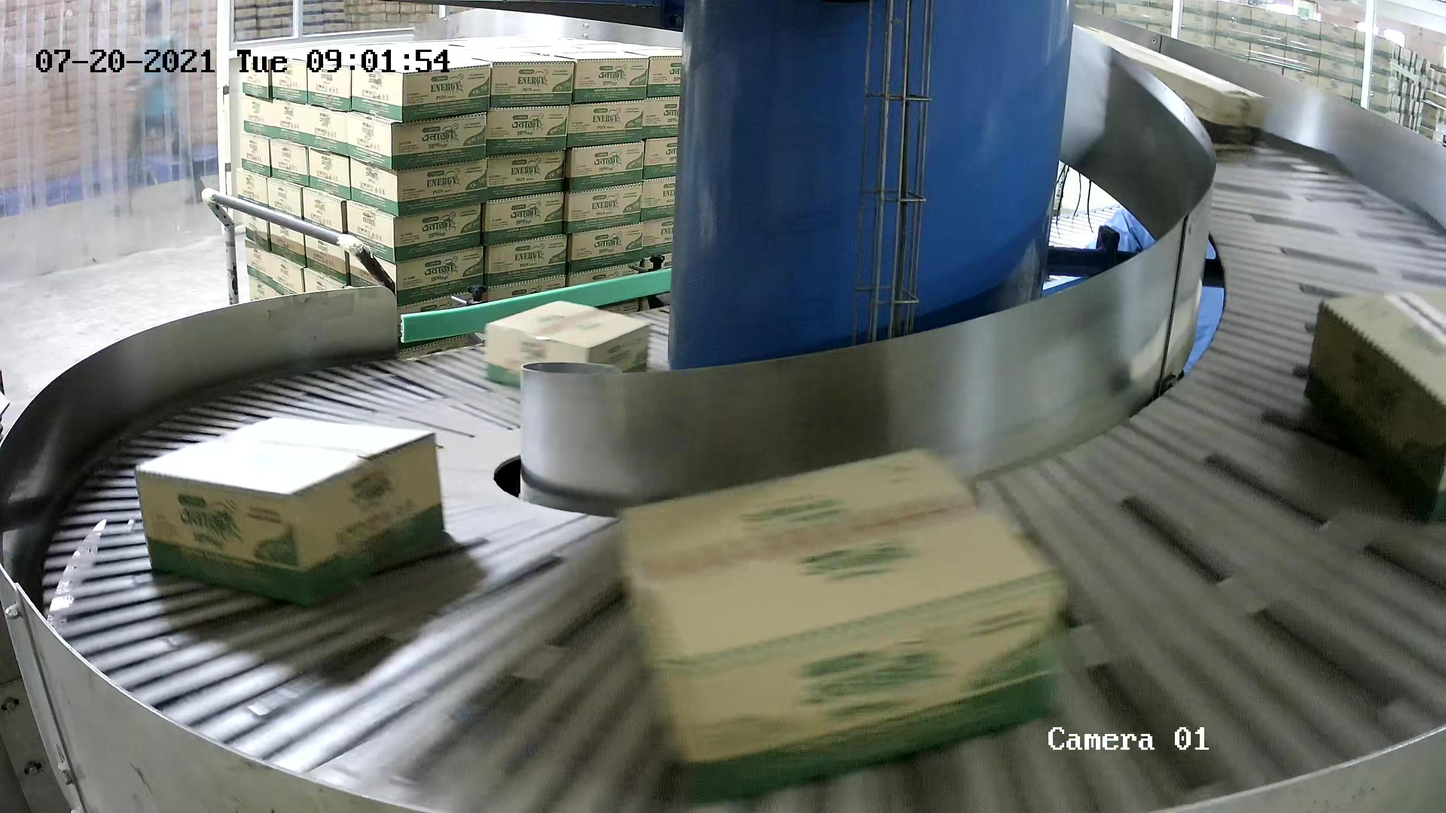Box: (616, 446, 1064, 811), (134, 414, 450, 610), (1303, 278, 1446, 532), (1066, 25, 1267, 152), (486, 299, 650, 403)
